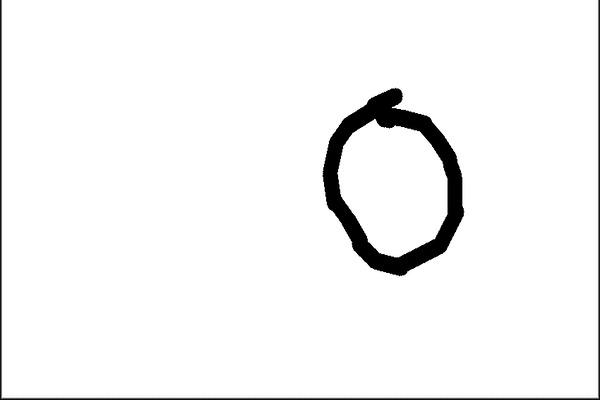O: (300, 79, 475, 284)
